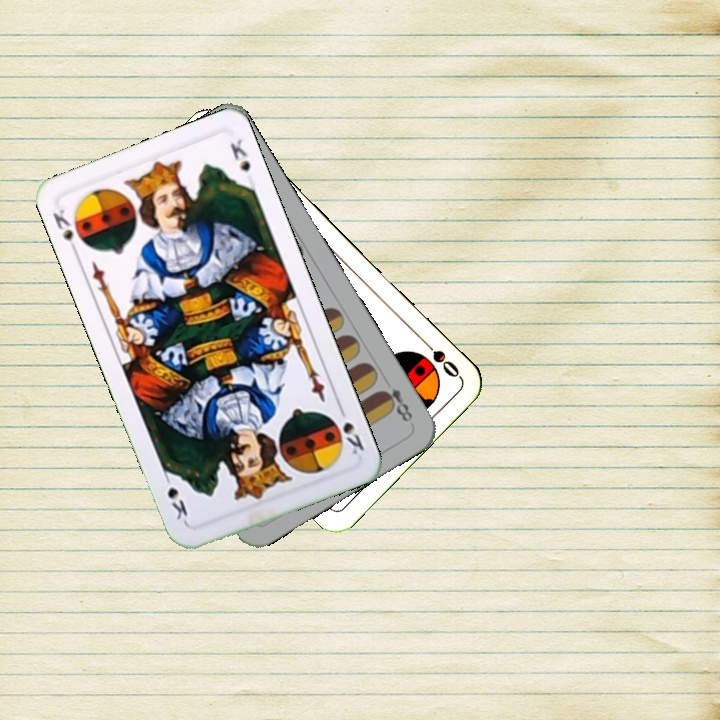E8: (376, 384, 416, 425)
SK: (334, 401, 367, 457), (48, 205, 81, 258)
SO: (416, 333, 462, 381)
